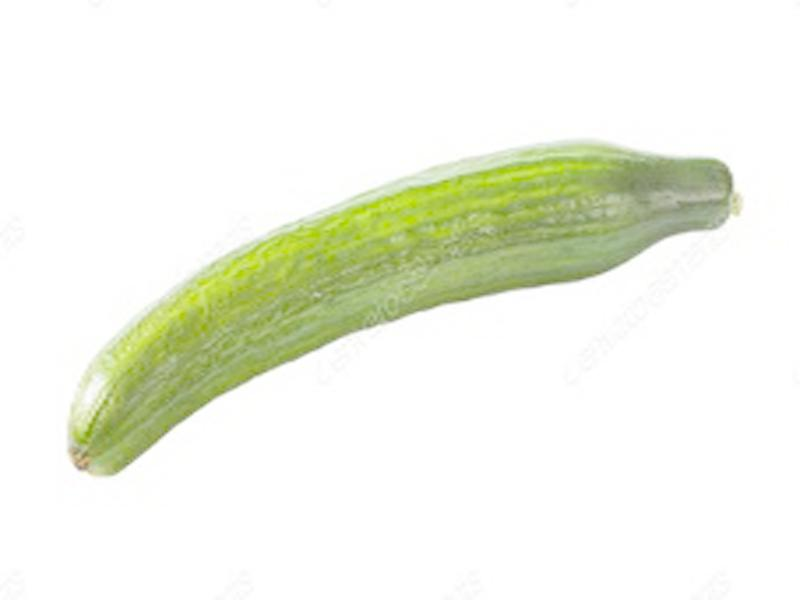Cucumber: (67, 140, 744, 478)
